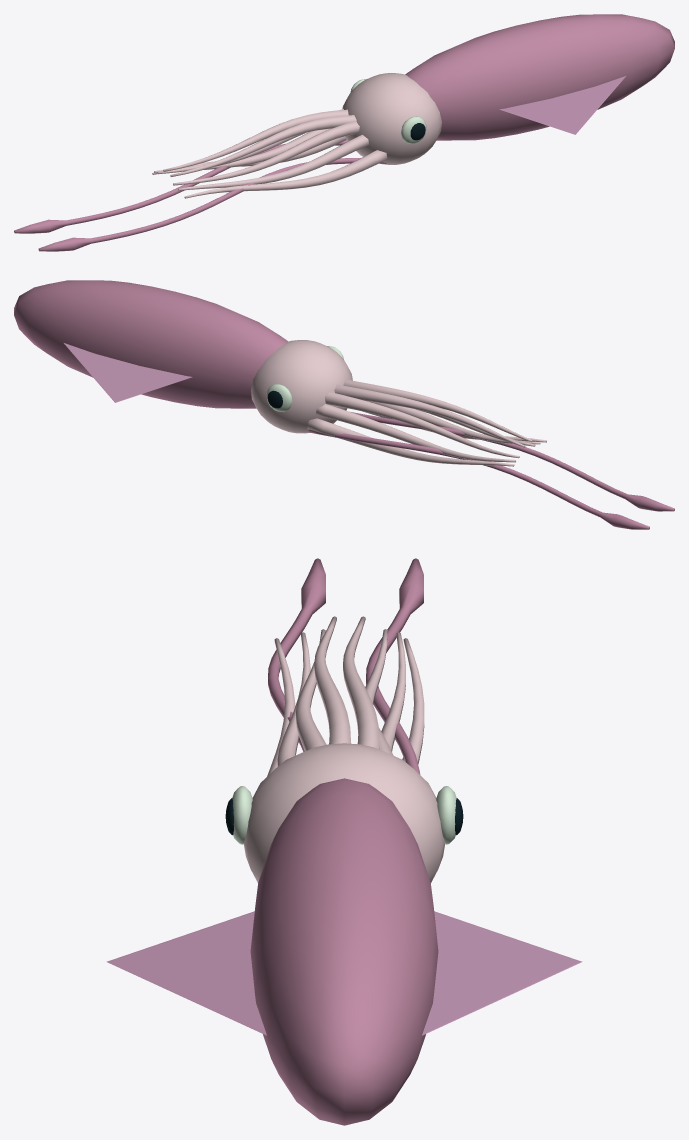
File: squid.glb
3 renders of one model, top to bottom at view 1: azimuth 30°, elevation 25°; view 2: azimuth 150°, elevation 25°; view 3: azimuth 270°, elevation 25°, orthographic. The views are drawn at different scales.
Parts seen in each view (by area): view 1: Squid; view 2: Squid; view 3: Squid.
Boxes of the visible parts, left/top/right/bottom form: Squid: left=14, top=14, right=674, bottom=251; Squid: left=14, top=280, right=674, bottom=529; Squid: left=106, top=558, right=582, bottom=1125.
Bounding box in the file's own units: 3.63 × 0.565 × 1.17.
